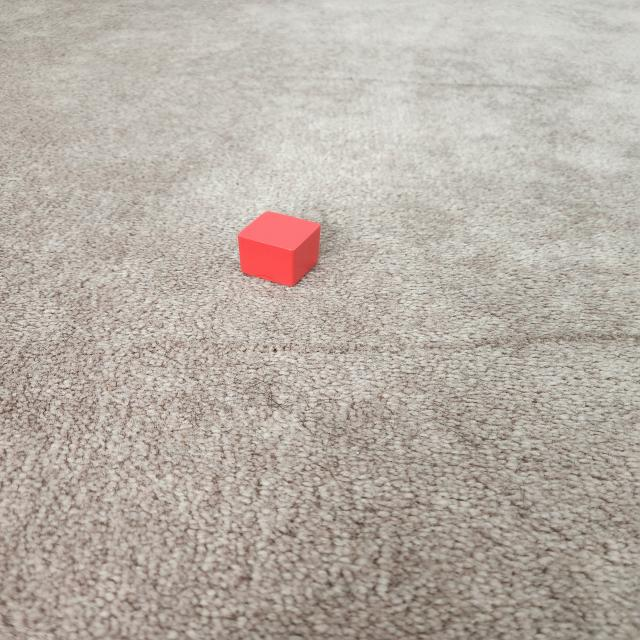red cube: (238, 212, 320, 288)
